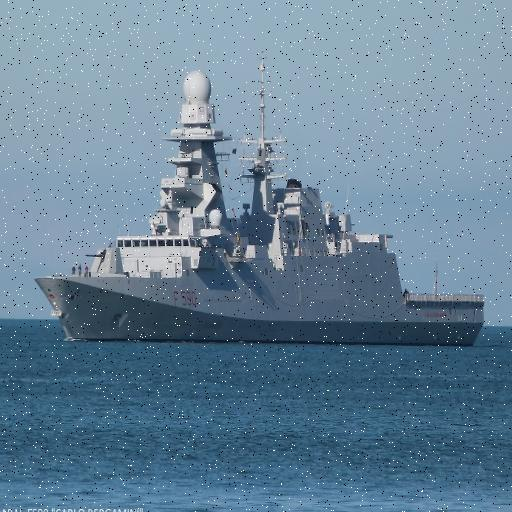Fragata: (22, 40, 494, 350)
